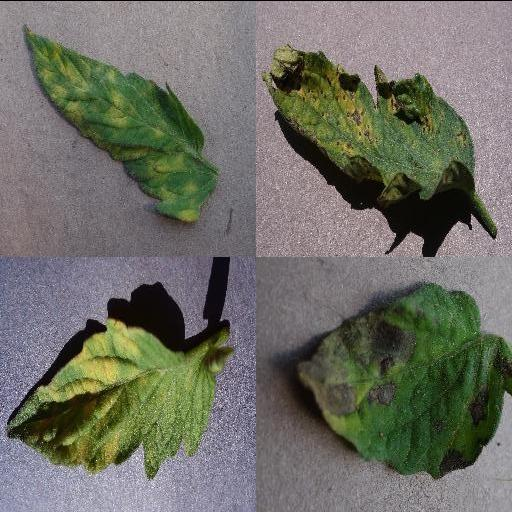Early Blight: (296, 283, 512, 479)
Leaf Mold: (23, 23, 221, 221), (5, 316, 215, 478)
Septoria: (261, 42, 475, 199)
